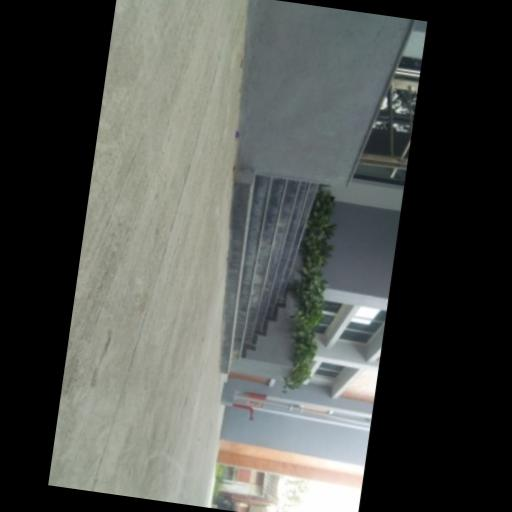stairs: (220, 171, 315, 373)
